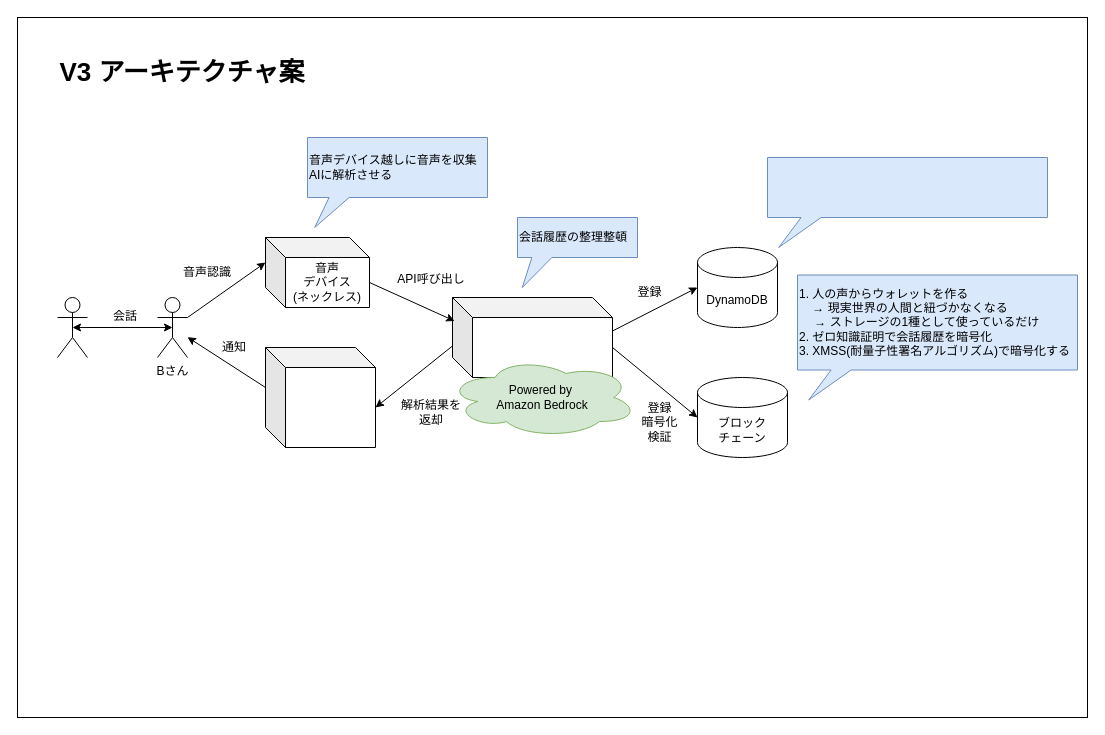
Image size: 1105x735. Some labels were removed from this diagram. The shapes that lost their labels are listed below. From the top down, each one's box as (x1, y1, x2, y2) in pixels, then its label:
(766, 156, 1048, 248): 整理整頓した会話履歴の 一部のデータ → 暗号化されたデータへのアクセス
(56, 296, 88, 358): Aさん
(452, 296, 612, 378): SABOROU 今まで作ってきたやつ
(264, 346, 376, 448): スマート ウォッチ(理想) or スマートフォン
